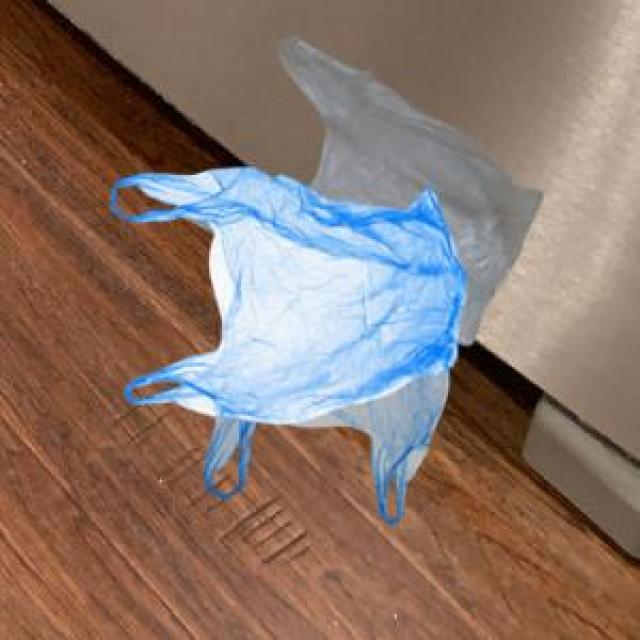plasticcover: (113, 158, 465, 422), (257, 40, 550, 356)
